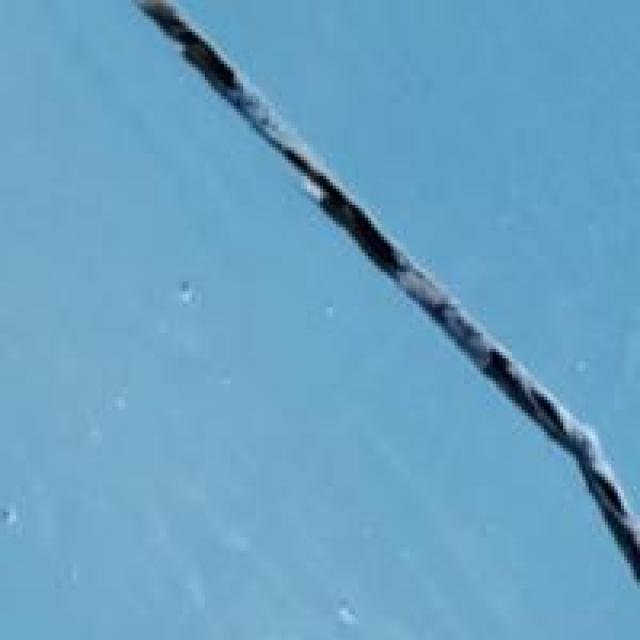crack: (144, 0, 637, 557)
